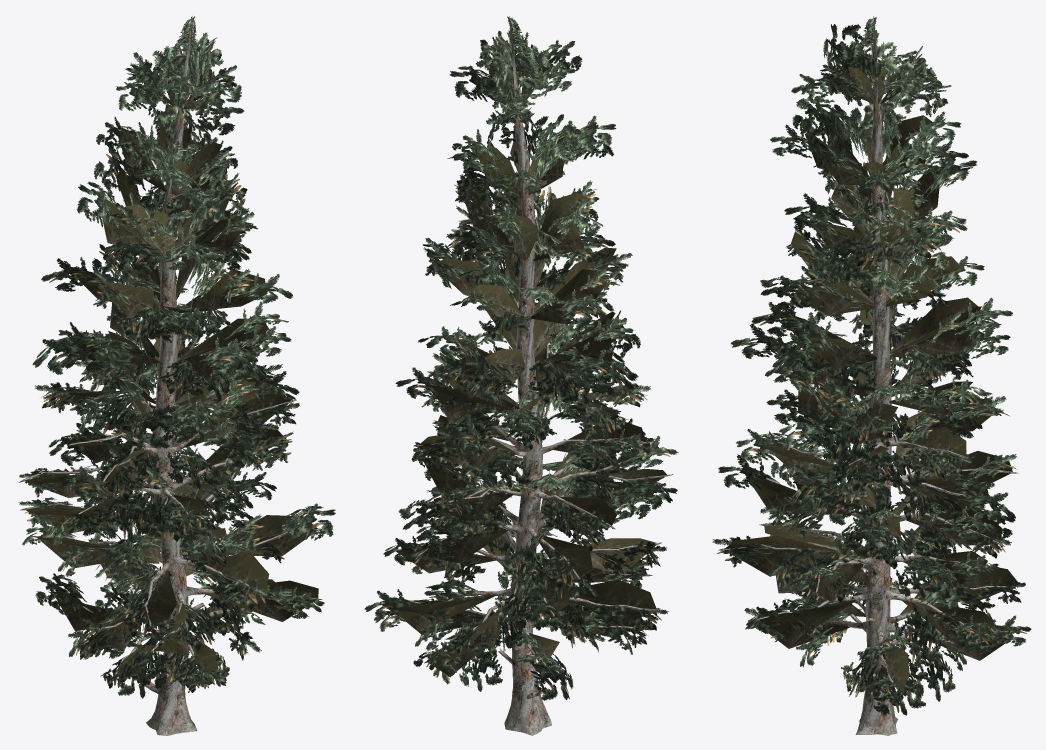
File: BlueSpruce_1.fbx
3 views of the same model, side by side, from view 1: azimuth 30°, elevation 25°; view 2: azimuth 150°, elevation 25°; view 3: azimuth 270°, elevation 25° (orthographic). The views are drawn at different scales.
Visible parts, largest first — view 1: BlueSpruce_1; view 2: BlueSpruce_1; view 3: BlueSpruce_1.
Boxes of the visible parts, left/top/right/bottom form: BlueSpruce_1: left=18, top=16, right=335, bottom=735; BlueSpruce_1: left=364, top=16, right=678, bottom=735; BlueSpruce_1: left=712, top=16, right=1031, bottom=735.
Bounding box in the file's own units: 12.22 × 30.29 × 12.24.
